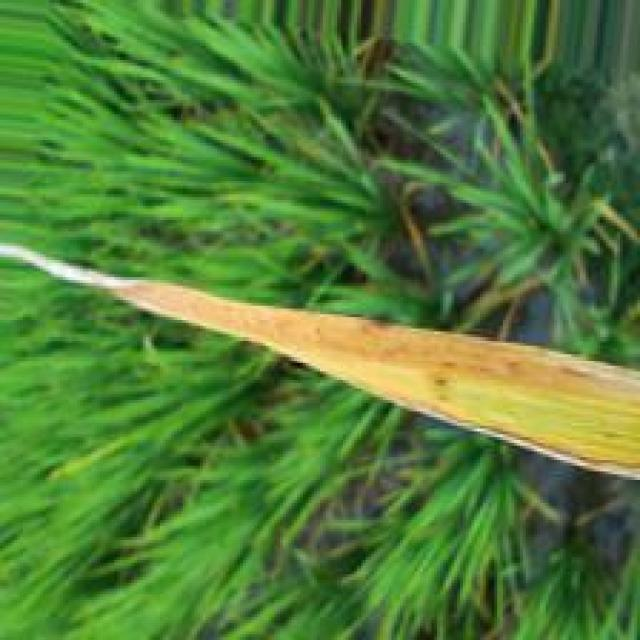Bacterial_Leaf_Blight: (0, 247, 640, 484)
